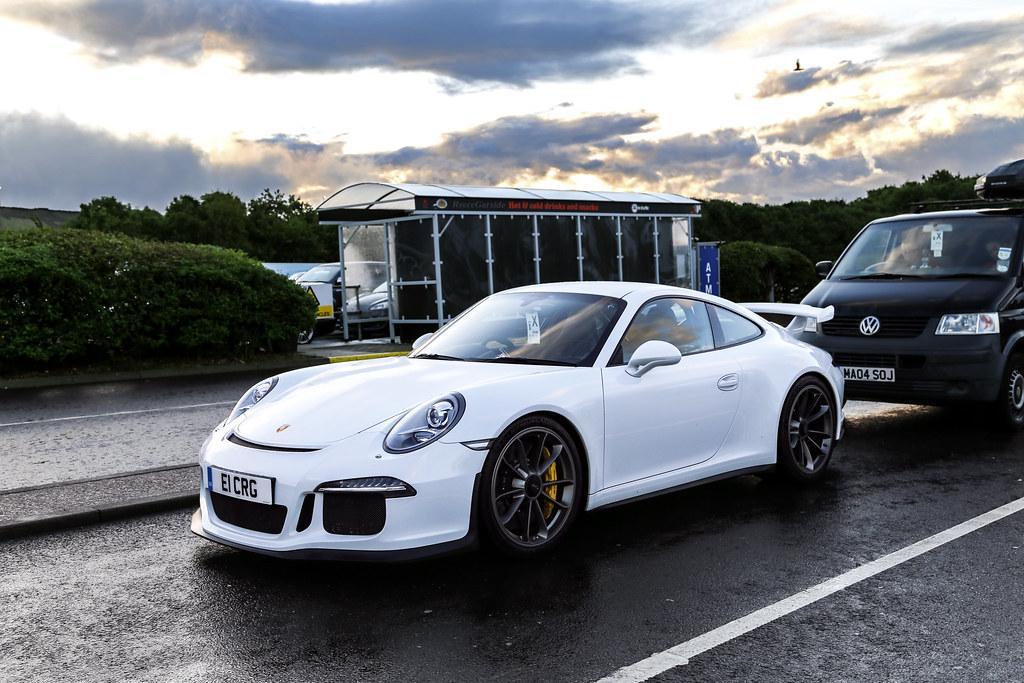car: (191, 280, 848, 564), (794, 160, 1024, 431)
